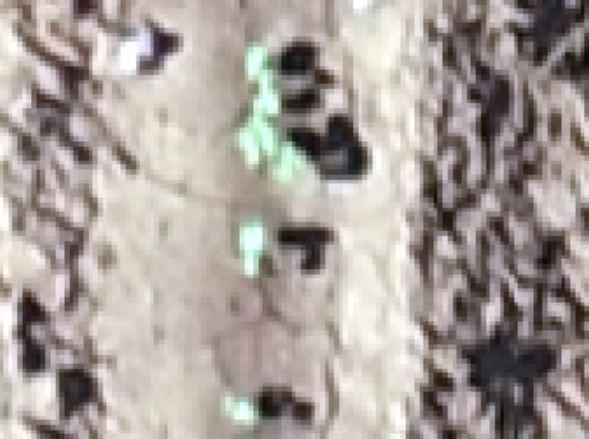cotton: (241, 120, 277, 150), (270, 143, 294, 174), (243, 221, 268, 248), (254, 92, 281, 116), (230, 399, 257, 421), (247, 49, 267, 73), (247, 243, 260, 275), (262, 72, 275, 94)
